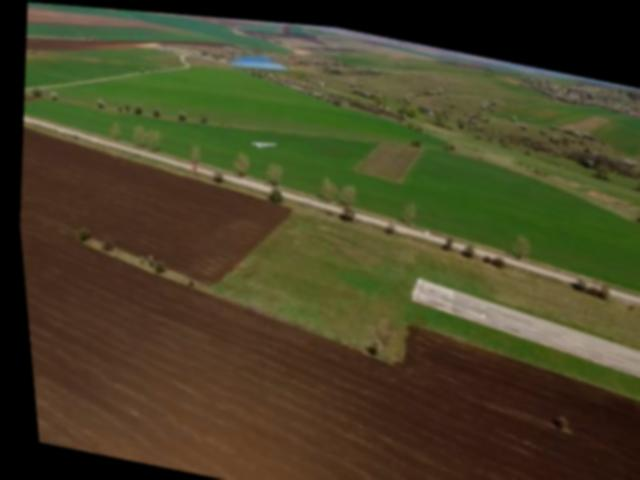uav: (243, 125, 280, 153)
